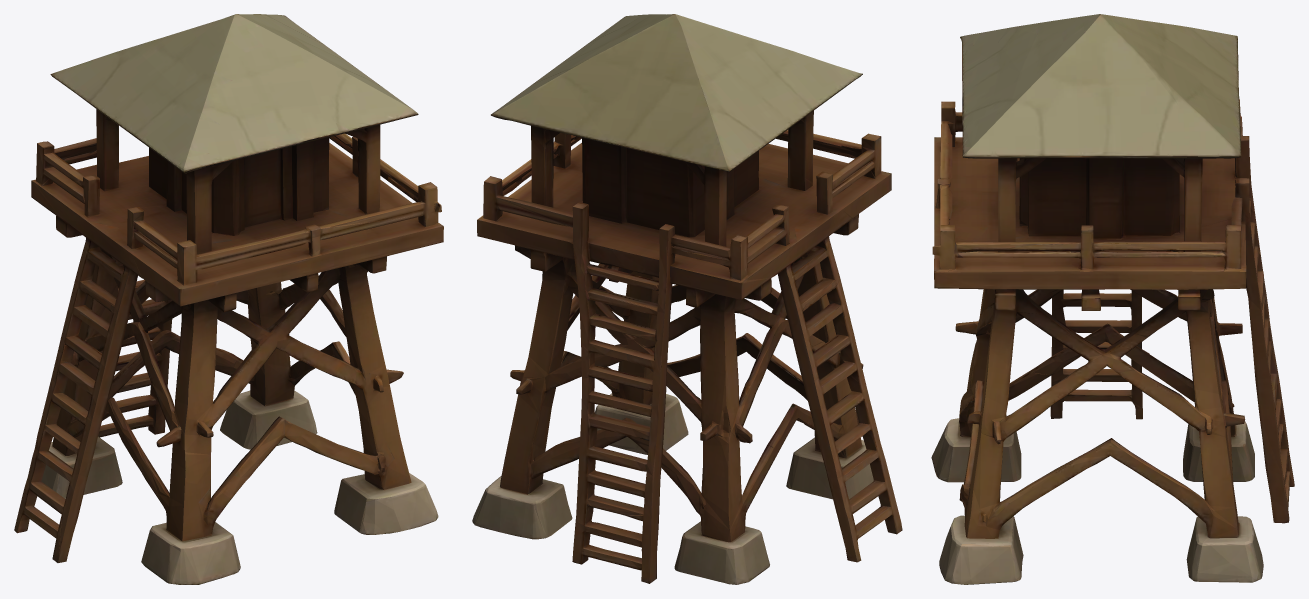
File: lookout_tower.glb
The picture shows the model from 3 angles, left to right: view 1: azimuth 30°, elevation 25°; view 2: azimuth 150°, elevation 25°; view 3: azimuth 270°, elevation 25°; orthographic projection. The views are drawn at different scales.
Visible parts, largest first — view 1: world; view 2: world; view 3: world.
Boxes of the visible parts, bbox=[...] form: world: bbox=[14, 14, 443, 584]; world: bbox=[472, 14, 902, 584]; world: bbox=[931, 14, 1294, 584].
Size of the model in its own units: 0.7269 by 1 by 0.6547.
Materials: 1 (1 with a texture image).
